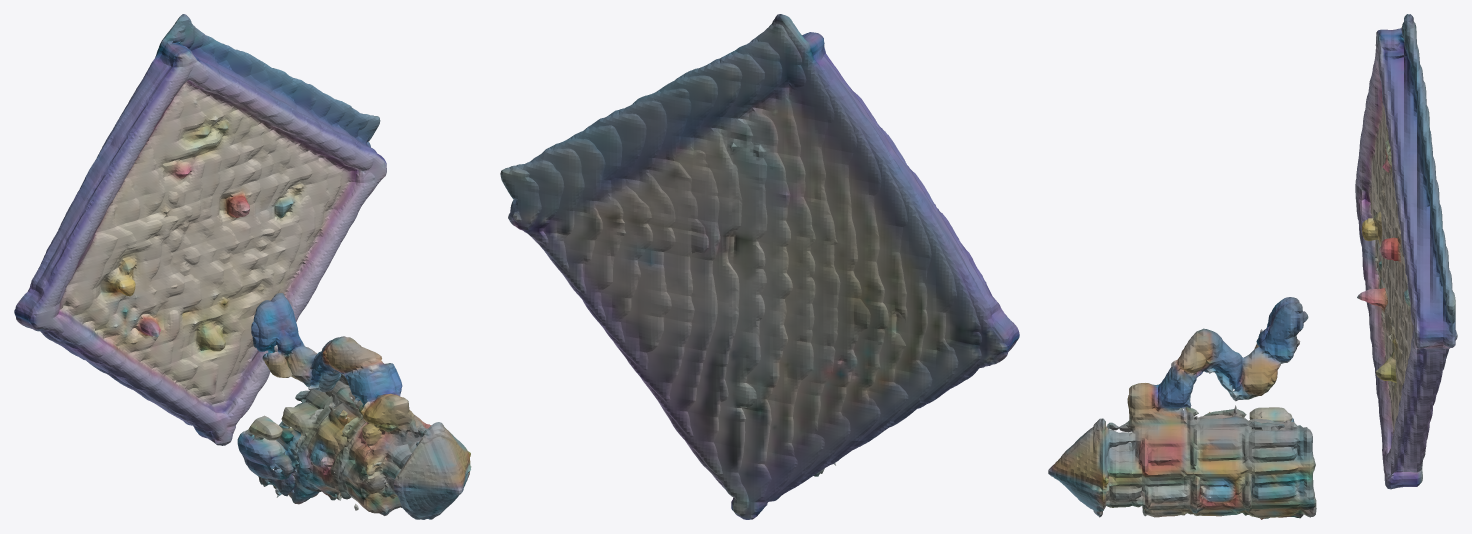
3 renders of one model, left to right at view 1: azimuth 30°, elevation 25°; view 2: azimuth 150°, elevation 25°; view 3: azimuth 270°, elevation 25°, orthographic. The views are drawn at different scales.
Visible parts, largest first — view 1: world; view 2: world; view 3: world.
Boxes of the visible parts, x1=… form: world: x1=14, y1=14, x2=471, y2=519; world: x1=500, y1=14, x2=1019, y2=519; world: x1=1048, y1=14, x2=1457, y2=519.
Size of the model in its own units: 1.02 by 1.1 by 0.8602.
